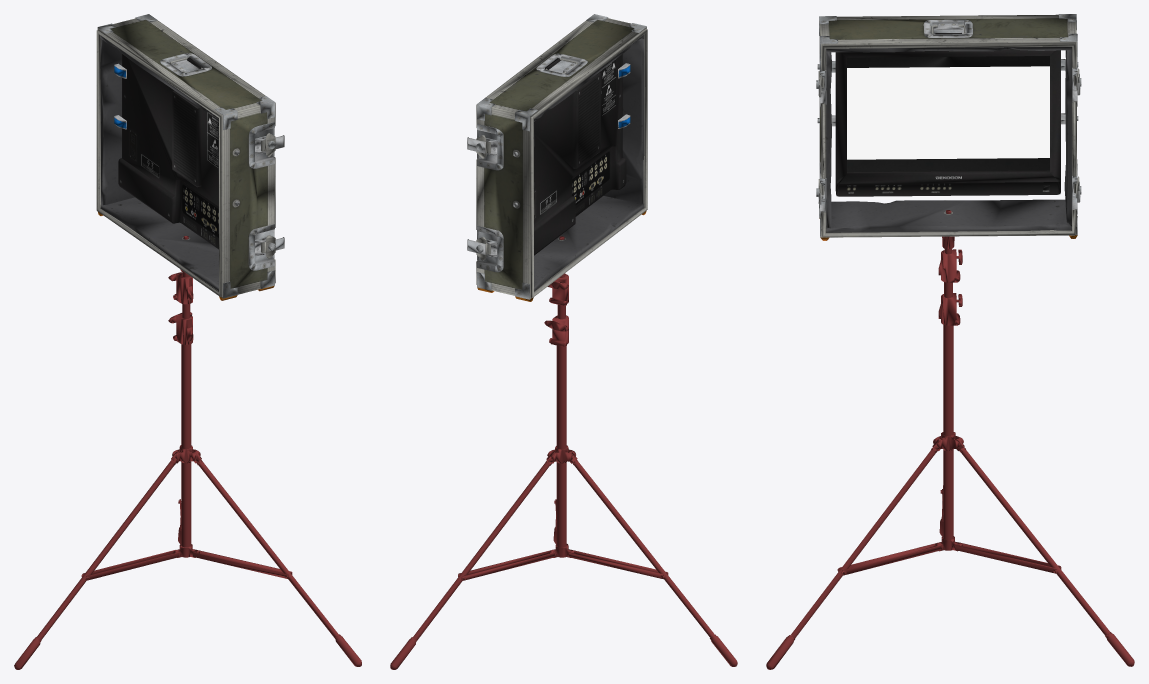
The model's file is tripod_screen.glb.
3 views of the same model, side by side, from view 1: azimuth 30°, elevation 25°; view 2: azimuth 150°, elevation 25°; view 3: azimuth 270°, elevation 25° (orthographic). The views are drawn at different scales.
Parts seen in each view (by area): view 1: Monitor Screen; view 2: Monitor Screen; view 3: Monitor Screen, Monitor Screen (1).
Part boxes in pixels (x1=…): Monitor Screen: x1=14, y1=14, x2=361, y2=669; Monitor Screen: x1=390, y1=14, x2=737, y2=669; Monitor Screen: x1=766, y1=14, x2=1134, y2=669; Monitor Screen (1): x1=847, y1=66, x2=1049, y2=159.
Bounding box in the file's own units: 0.7491 × 1.52 × 0.8536.
3 materials, 1 textured.
